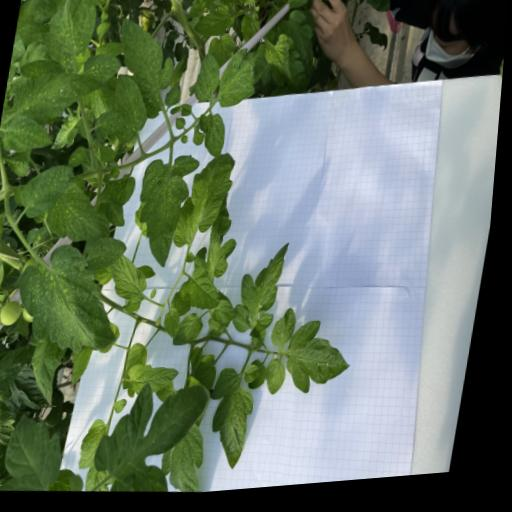Healthy: (96, 377, 218, 503), (5, 409, 77, 497), (0, 339, 41, 428), (0, 376, 4, 491)
Leaf_Miner: (169, 448, 185, 478)
